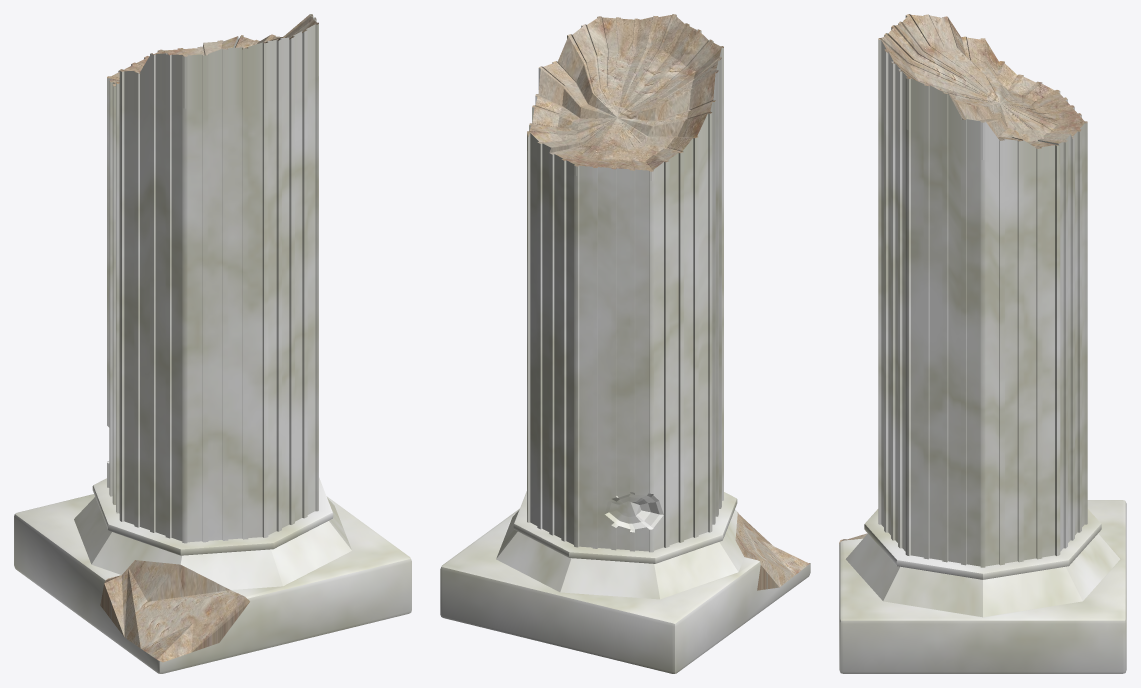
Rendered from hashira_broken_usami.fbx.
The picture shows the model from 3 angles, left to right: view 1: azimuth 30°, elevation 25°; view 2: azimuth 150°, elevation 25°; view 3: azimuth 270°, elevation 25°; orthographic projection. The views are drawn at different scales.
Visible parts, largest first — view 1: broken; view 2: broken; view 3: broken.
Boxes of the visible parts, x1,y1,x2,y2 form: broken: (14, 14, 411, 673); broken: (440, 14, 810, 673); broken: (839, 14, 1126, 673).
Bounding box in the file's own units: 10 × 22.09 × 10.
1 material, 1 textured.
